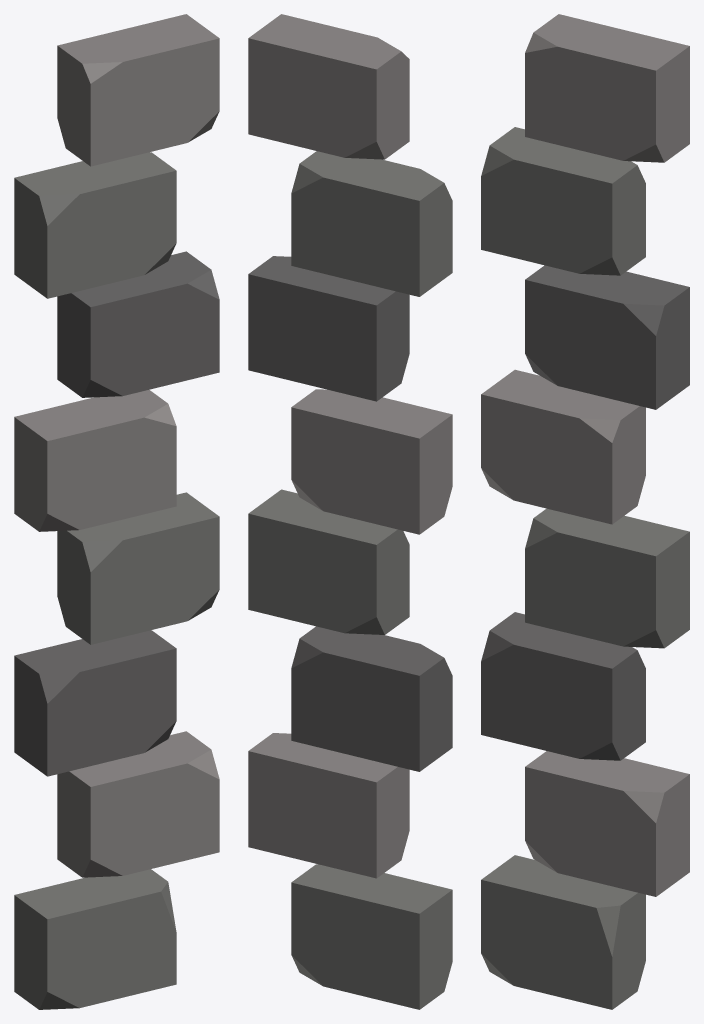
Rendered from SM_Bld_Wall_Brick_Straight_01.fbx.
The picture shows the model from 3 angles, left to right: view 1: azimuth 30°, elevation 25°; view 2: azimuth 150°, elevation 25°; view 3: azimuth 330°, elevation 25°; orthographic projection. The views are drawn at different scales.
Parts seen in each view (by area): view 1: SM_Bld_Wall_Brick_Straight_01; view 2: SM_Bld_Wall_Brick_Straight_01; view 3: SM_Bld_Wall_Brick_Straight_01.
Part boxes in pixels (left/top/right/bottom): SM_Bld_Wall_Brick_Straight_01: left=14, top=14, right=219, bottom=1009; SM_Bld_Wall_Brick_Straight_01: left=248, top=14, right=452, bottom=1009; SM_Bld_Wall_Brick_Straight_01: left=481, top=14, right=689, bottom=1009.
Size of the model in its own units: 56.52 by 293 by 18.9.
